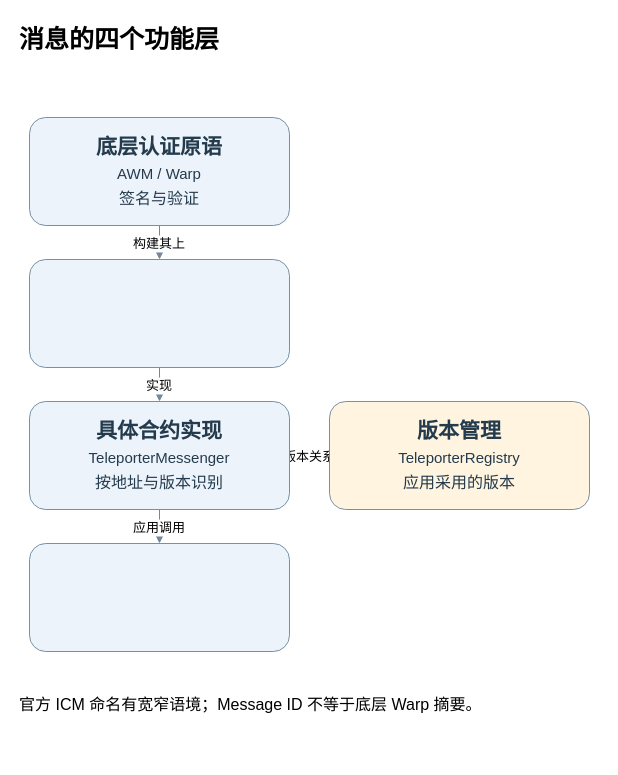
Some shapes in this 618 by 775 pixel diagram are drawn without their labels. Each missing label, with the centre of its shape:
"业务应用 Application / ICTT 资产或其他业务" belongs at point 159,597.
"消息协议 ICM Protocol 身份、接收、回执、费用" belongs at point 159,313.
